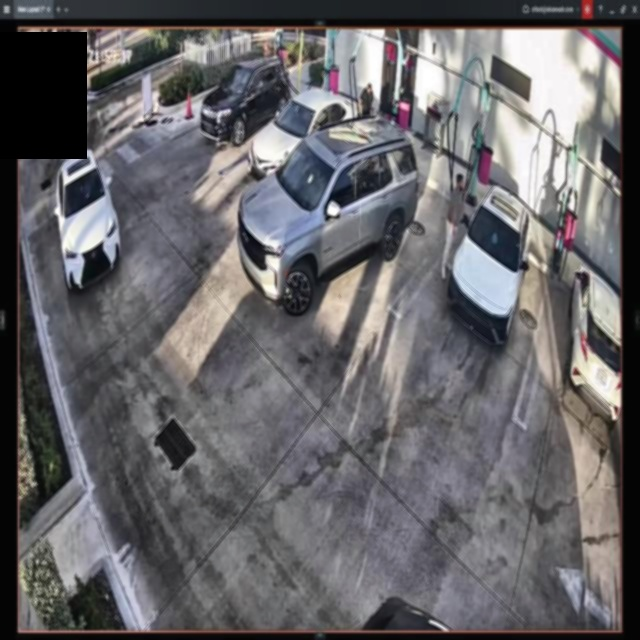Car: (237, 119, 418, 314), (450, 184, 533, 344), (248, 83, 361, 182), (200, 57, 288, 144)
